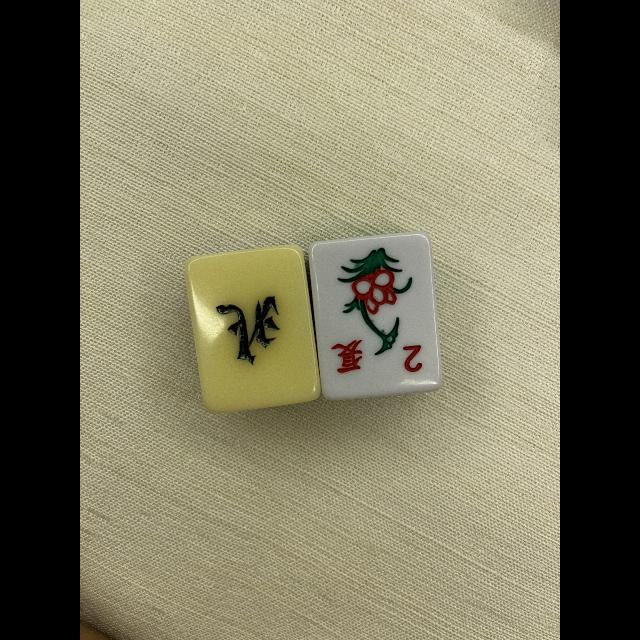s2: (318, 331, 436, 392)
wn: (194, 252, 312, 402)
